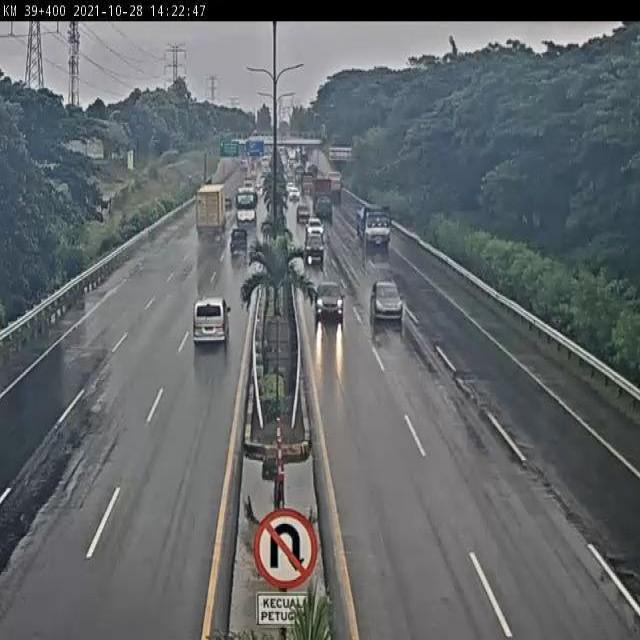car: (193, 293, 233, 351), (367, 280, 405, 328), (314, 280, 346, 327), (303, 236, 329, 268), (228, 225, 252, 255)
truck-l-: (357, 204, 394, 256)
truck-xl-: (196, 180, 229, 241)
